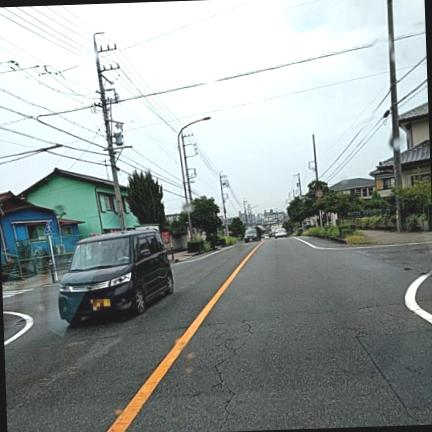Road: (122, 238, 431, 431)
